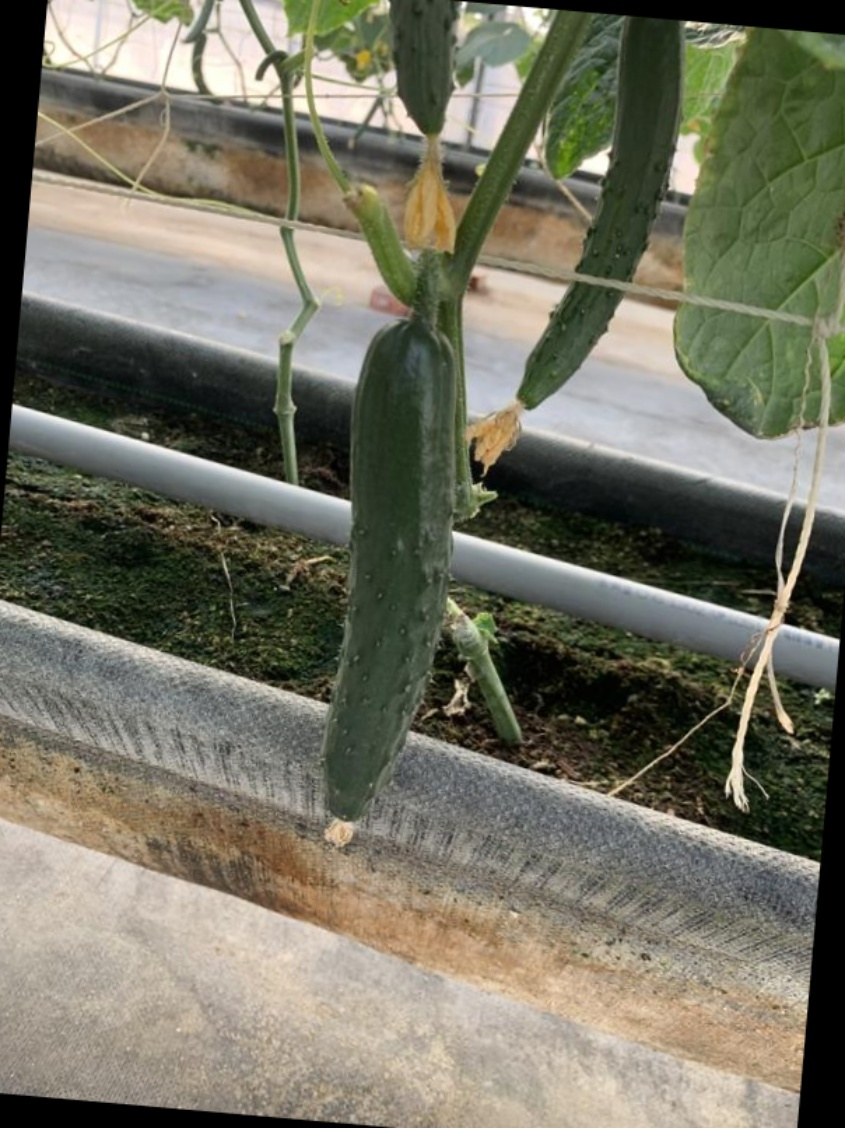mature: (312, 329, 464, 829)
